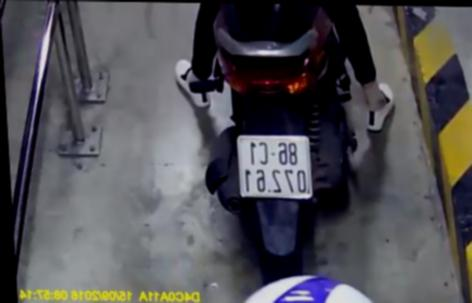License_Plate: (229, 131, 321, 206)
